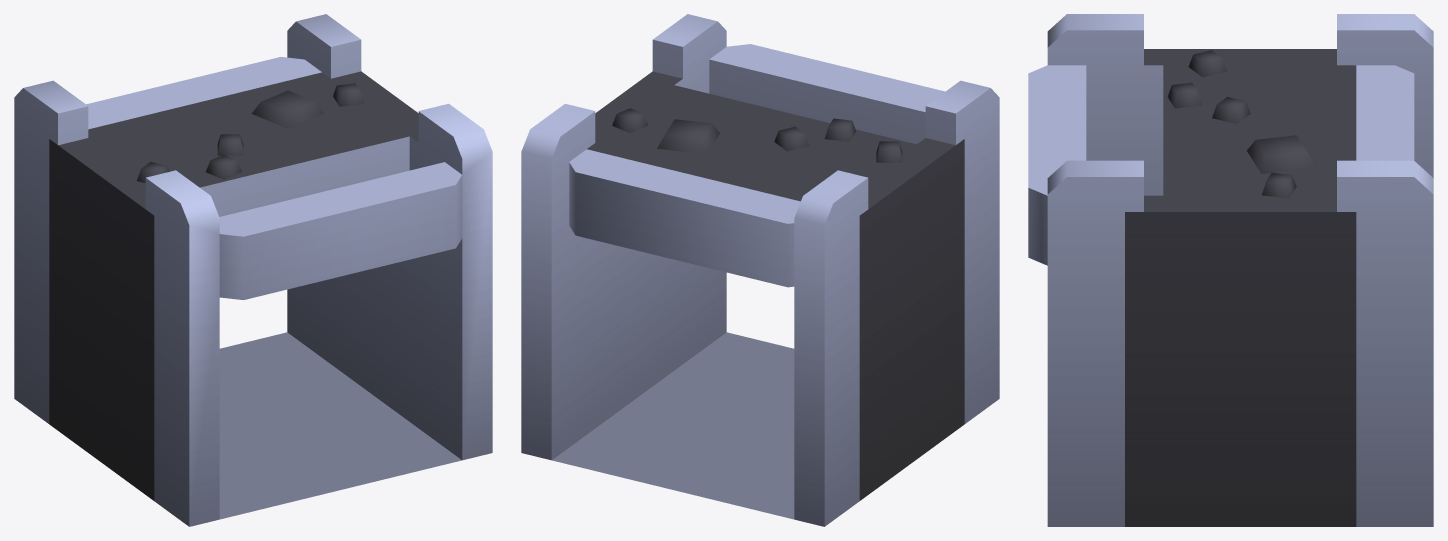
3 renders of one model, left to right at view 1: azimuth 30°, elevation 25°; view 2: azimuth 150°, elevation 25°; view 3: azimuth 270°, elevation 25°, orthographic. The views are drawn at different scales.
Parts seen in each view (by area): view 1: wall_opening; view 2: wall_opening; view 3: wall_opening.
Boxes of the visible parts, left/top/right/bottom form: wall_opening: left=14, top=14, right=492, bottom=526; wall_opening: left=521, top=14, right=999, bottom=526; wall_opening: left=1028, top=14, right=1433, bottom=526.
Size of the model in its own units: 1 by 1 by 1.05.
1 material, 1 textured.
